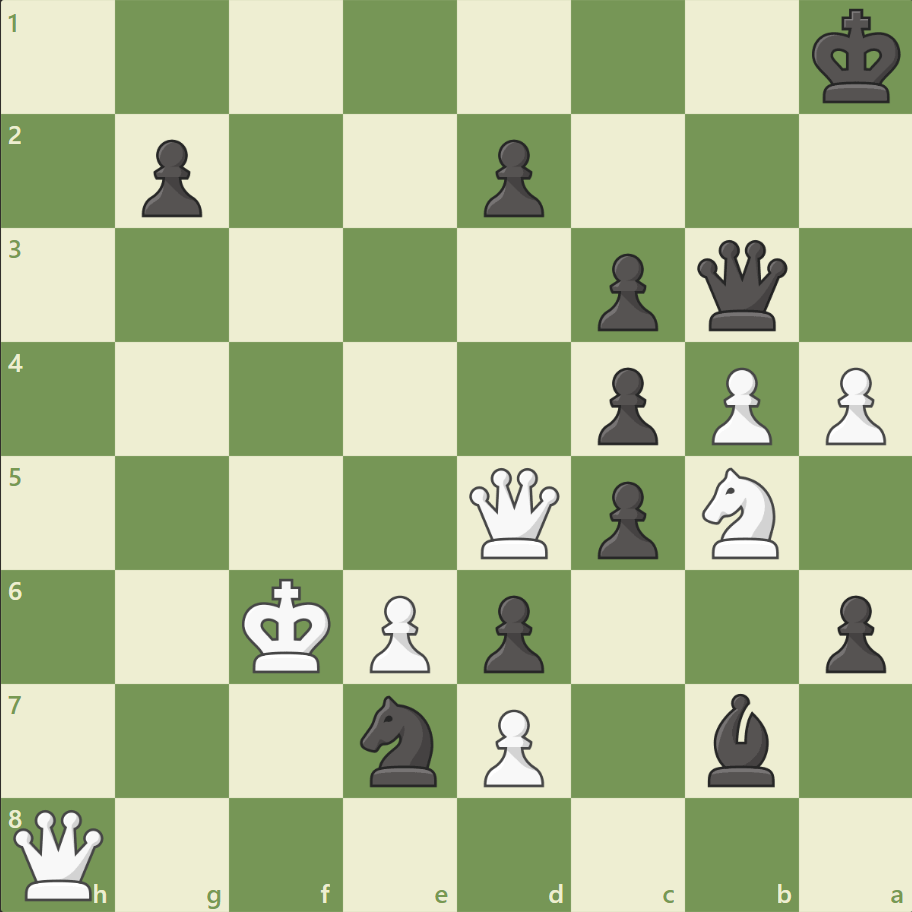K: (238, 571, 338, 679)
N: (692, 461, 789, 564)
P: (474, 700, 549, 791), (701, 359, 776, 450), (361, 586, 435, 677), (815, 359, 889, 450)
Q: (10, 804, 109, 903), (464, 463, 563, 562)
b: (698, 687, 782, 790)
k: (806, 4, 906, 112)
n: (351, 688, 449, 791)
p: (474, 586, 549, 677), (474, 132, 549, 223), (133, 132, 208, 223), (815, 586, 889, 677), (588, 473, 662, 564), (588, 359, 662, 450), (588, 246, 662, 337)
q: (691, 236, 790, 335)
